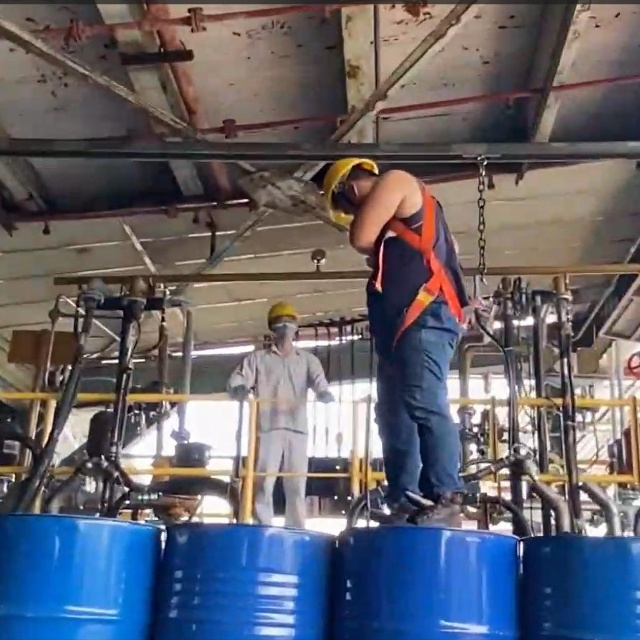Arnes_seguridad: (361, 171, 469, 376)
